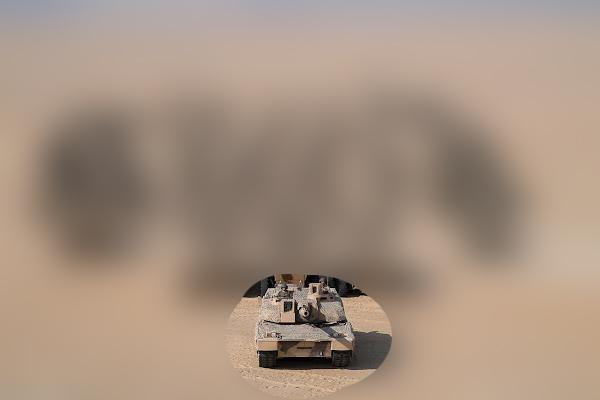tank: (252, 274, 356, 370)
